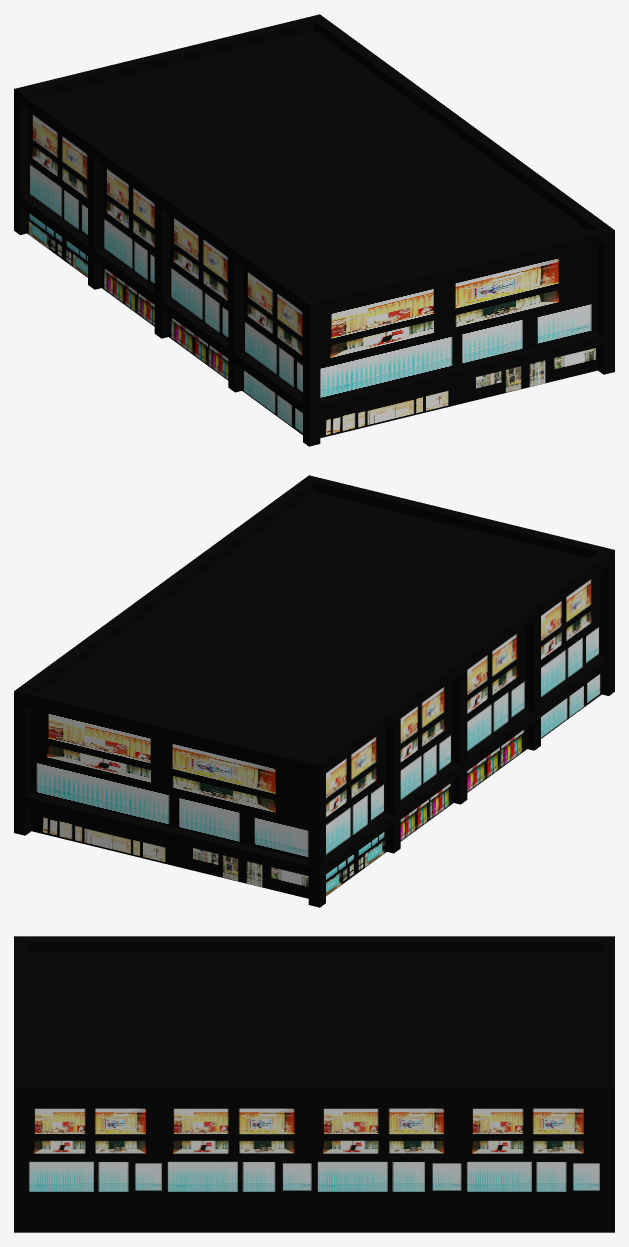
The model's file is building24.FBX.
3 renders of one model, top to bottom at view 1: azimuth 30°, elevation 25°; view 2: azimuth 150°, elevation 25°; view 3: azimuth 270°, elevation 25°, orthographic.
Visible parts, largest first — view 1: Box001; view 2: Box001; view 3: Box001.
Boxes of the visible parts, x1=… form: Box001: x1=14, y1=14, x2=614, y2=446; Box001: x1=14, y1=475, x2=614, y2=907; Box001: x1=14, y1=936, x2=614, y2=1232.
Bounding box in the file's own units: 57.55 × 25.48 × 96.13.
